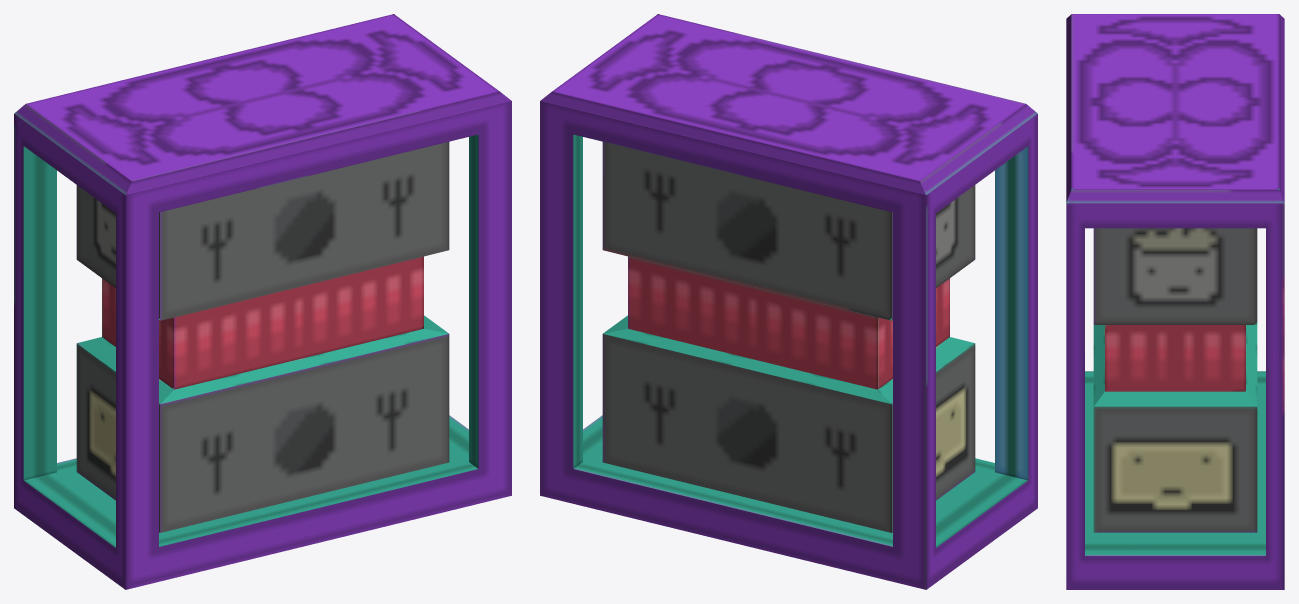
File: BoxLong.fbx
3 views of the same model, side by side, from view 1: azimuth 30°, elevation 25°; view 2: azimuth 150°, elevation 25°; view 3: azimuth 270°, elevation 25° (orthographic). The views are drawn at different scales.
Visible parts, largest first — view 1: Cube; view 2: Cube; view 3: Cube.
Boxes of the visible parts, left/top/right/bottom form: Cube: left=14, top=14, right=511, bottom=589; Cube: left=540, top=14, right=1037, bottom=589; Cube: left=1066, top=14, right=1284, bottom=589.
Size of the model in its own units: 400 by 400 by 200.
Materials: 1 (1 with a texture image).
